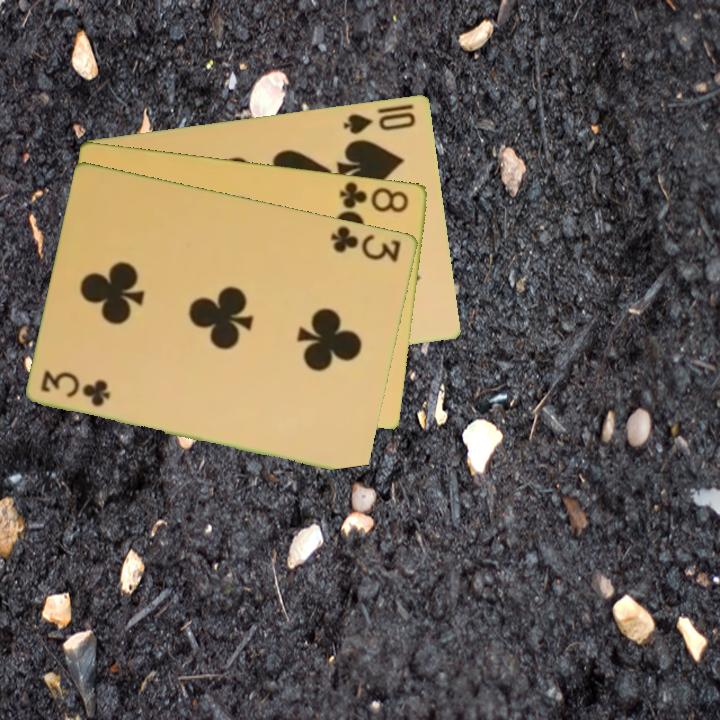10s: (340, 108, 419, 136)
3c: (327, 222, 405, 265), (37, 367, 114, 409)
8c: (336, 177, 412, 215)
